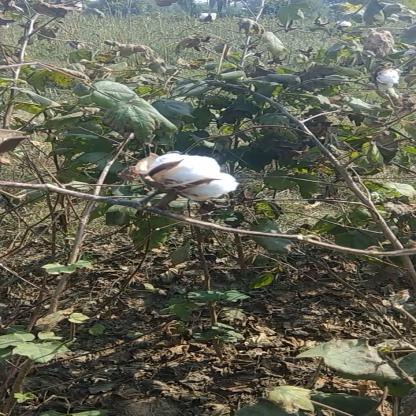cotton_ready: (118, 144, 256, 218)
